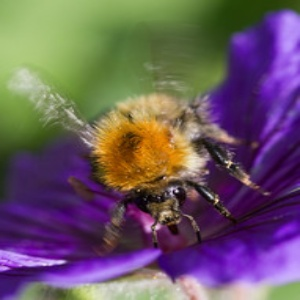bee: (83, 94, 261, 255)
